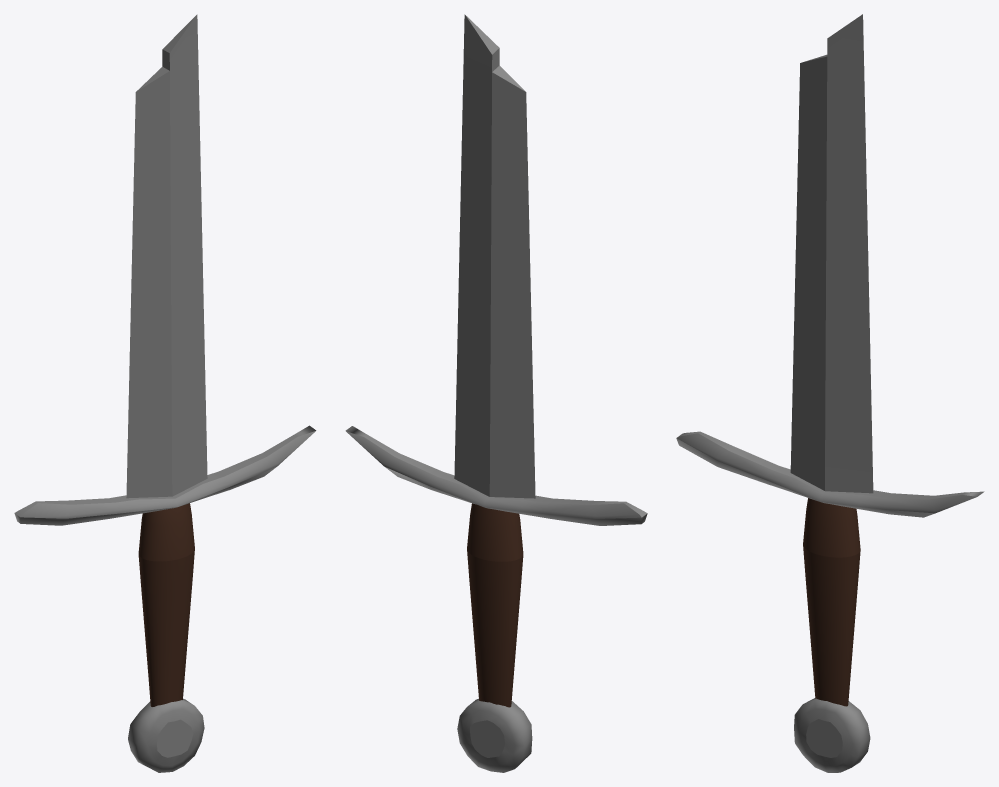
The model's file is broken_sword.gltf.
3 views of the same model, side by side, from view 1: azimuth 30°, elevation 25°; view 2: azimuth 150°, elevation 25°; view 3: azimuth 330°, elevation 25° (orthographic). The views are drawn at different scales.
Parts seen in each view (by area): view 1: Cylinder; view 2: Cylinder; view 3: Cylinder.
Boxes of the visible parts, x1,y1,x2,y2 form: Cylinder: (14, 14, 316, 772); Cylinder: (345, 14, 647, 772); Cylinder: (676, 14, 984, 772).
Size of the model in its own units: 0.1945 by 0.4695 by 0.0254.
Materials: 1 (1 with a texture image).
